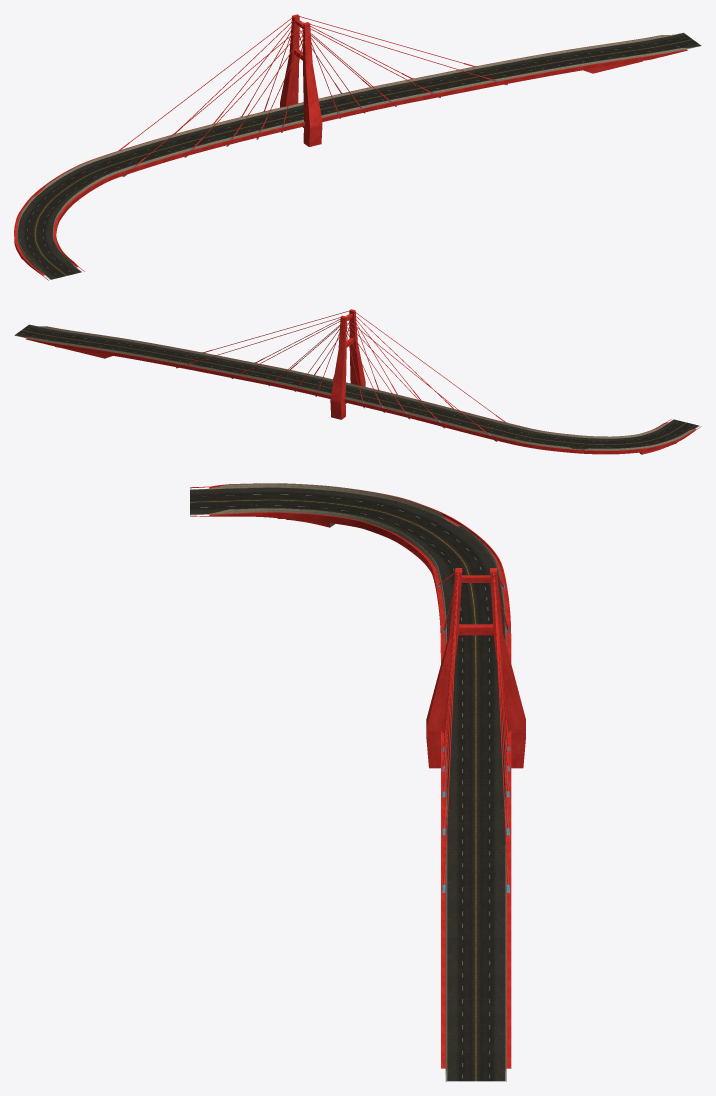
Rendered from bridge_road_lowpoly.glb.
The picture shows the model from 3 angles, top to bottom: view 1: azimuth 30°, elevation 25°; view 2: azimuth 150°, elevation 25°; view 3: azimuth 270°, elevation 25°; orthographic projection. The views are drawn at different scales.
Parts seen in each view (by area): view 1: Bridge, Road; view 2: Bridge, Road; view 3: Road, Bridge.
Boxes of the visible parts, x1,y1,x2,y2 form: Bridge: (14, 14, 701, 280); Road: (17, 33, 700, 279); Bridge: (14, 309, 701, 454); Road: (15, 325, 698, 449); Road: (190, 487, 504, 1081); Bridge: (190, 483, 525, 1081).
Size of the model in its own units: 389 by 58.94 by 92.96.
1 material, 1 textured.
